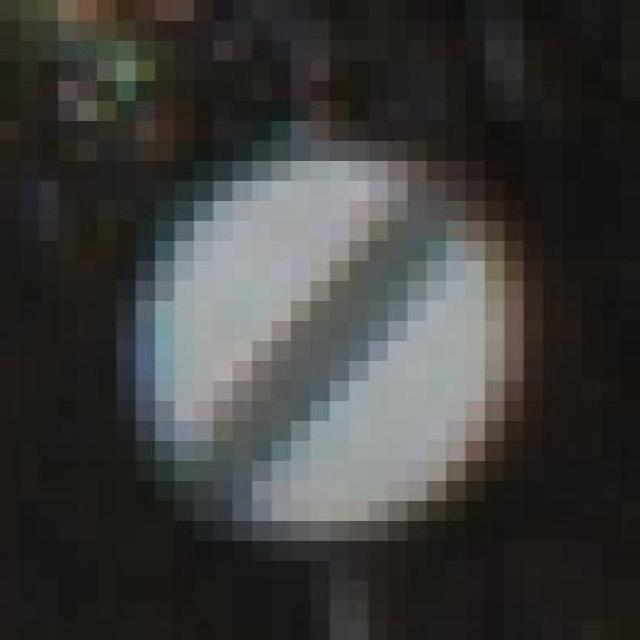End of all speed and passing limits: (97, 120, 543, 540)
